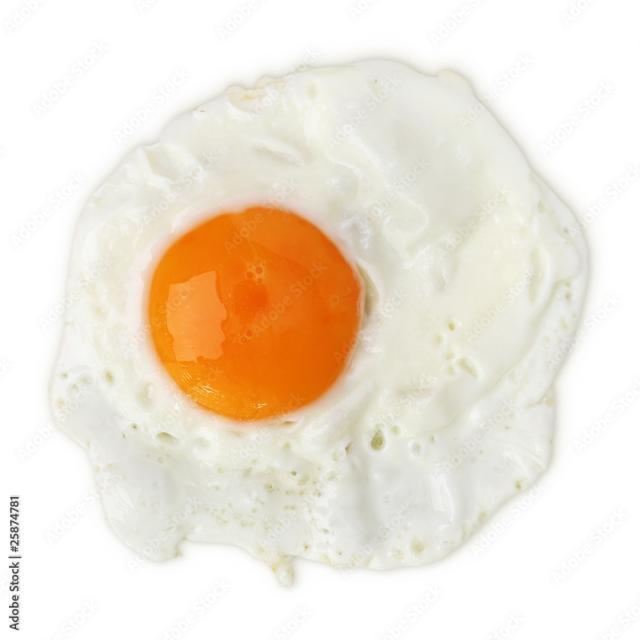Egg: (51, 60, 588, 585)
